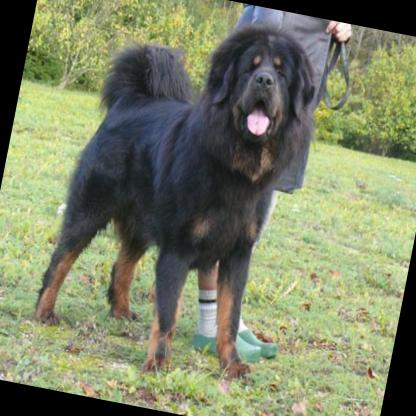Tibetan_mastiff: (24, 0, 324, 394)
